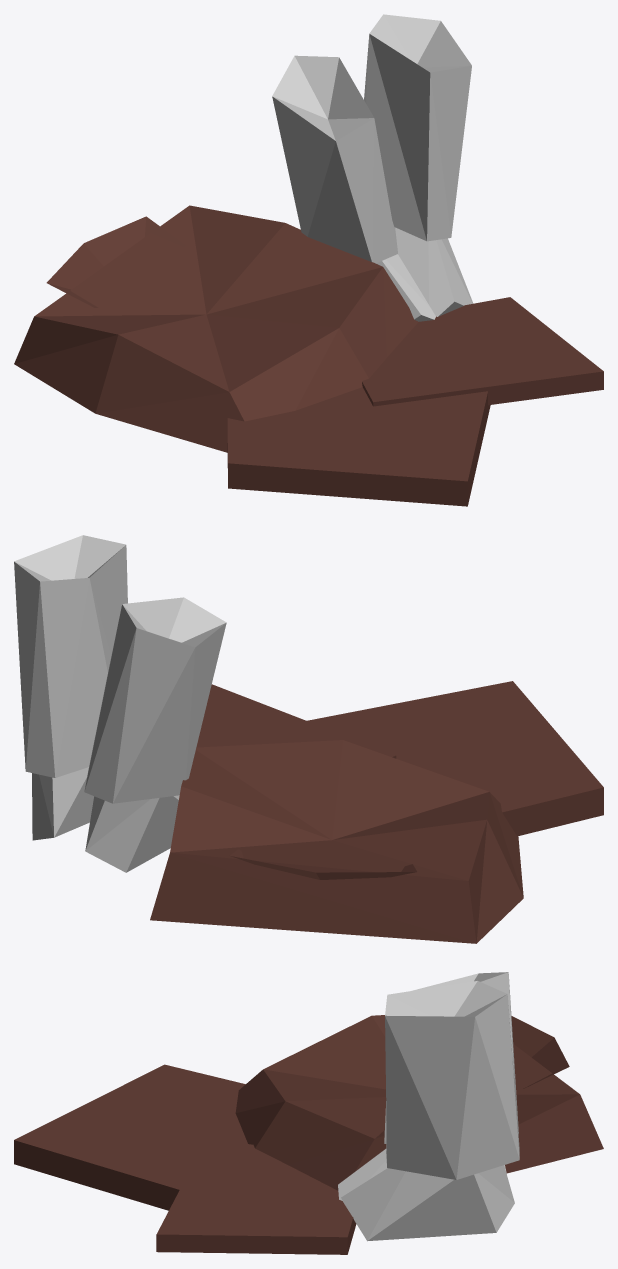
File: EBRM.OBJ
3 renders of one model, top to bottom at view 1: azimuth 30°, elevation 25°; view 2: azimuth 150°, elevation 25°; view 3: azimuth 270°, elevation 25°, orthographic. The views are drawn at different scales.
Visible parts, largest first — view 1: EBRM; view 2: EBRM; view 3: EBRM.
Boxes of the visible parts, left/top/right/bottom form: EBRM: left=14, top=14, right=603, bottom=506; EBRM: left=14, top=535, right=603, bottom=943; EBRM: left=14, top=972, right=603, bottom=1254.
Size of the model in its own units: 0.8492 by 0.5073 by 1.06.
